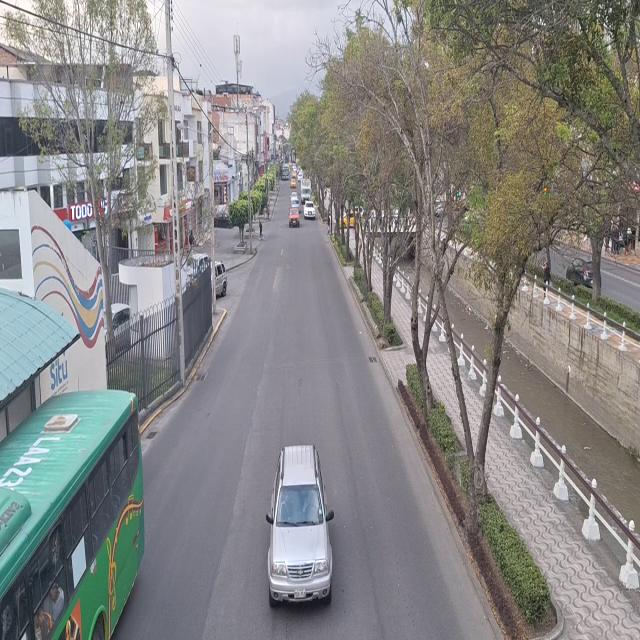BUS: (0, 399, 136, 640)
SUV: (267, 448, 332, 604), (304, 202, 315, 218)
TRUCK: (302, 180, 310, 202)
